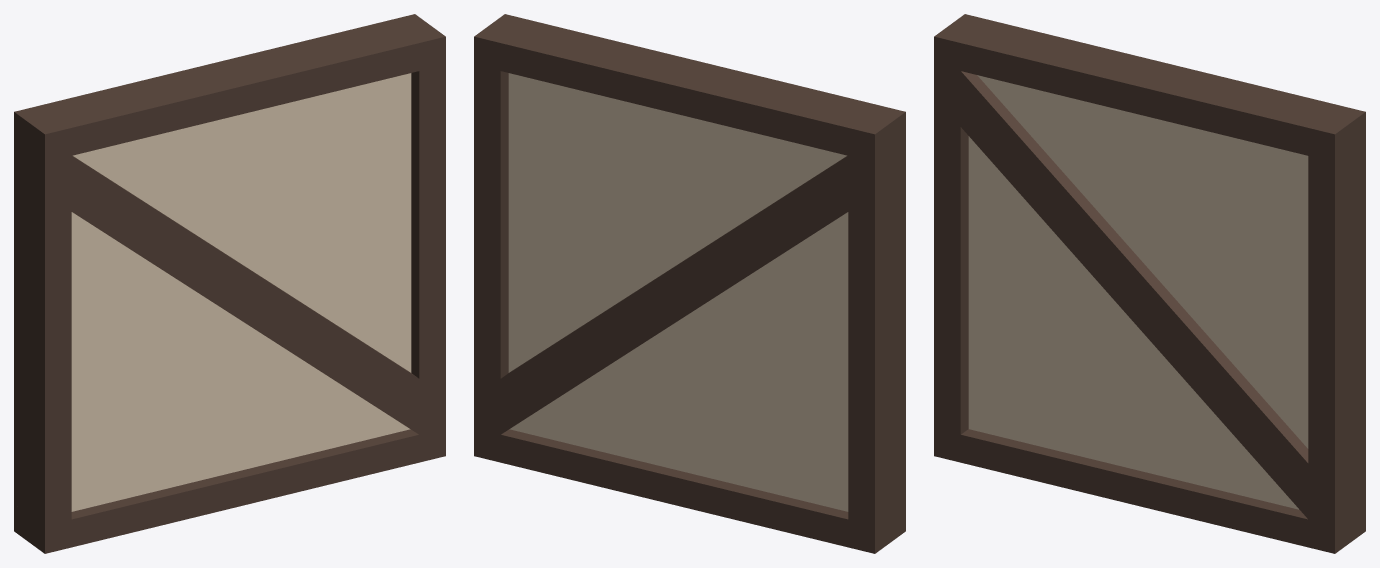
File: fantasy_wall_3.fbx
3 views of the same model, side by side, from view 1: azimuth 30°, elevation 25°; view 2: azimuth 150°, elevation 25°; view 3: azimuth 330°, elevation 25° (orthographic).
Parts seen in each view (by area): view 1: Cube.022; view 2: Cube.022; view 3: Cube.022.
Part boxes in pixels (x1,y1,x2,y2): Cube.022: [14, 14, 445, 553]; Cube.022: [474, 14, 905, 553]; Cube.022: [934, 14, 1365, 553].
Size of the model in its own units: 300 by 300 by 40.
